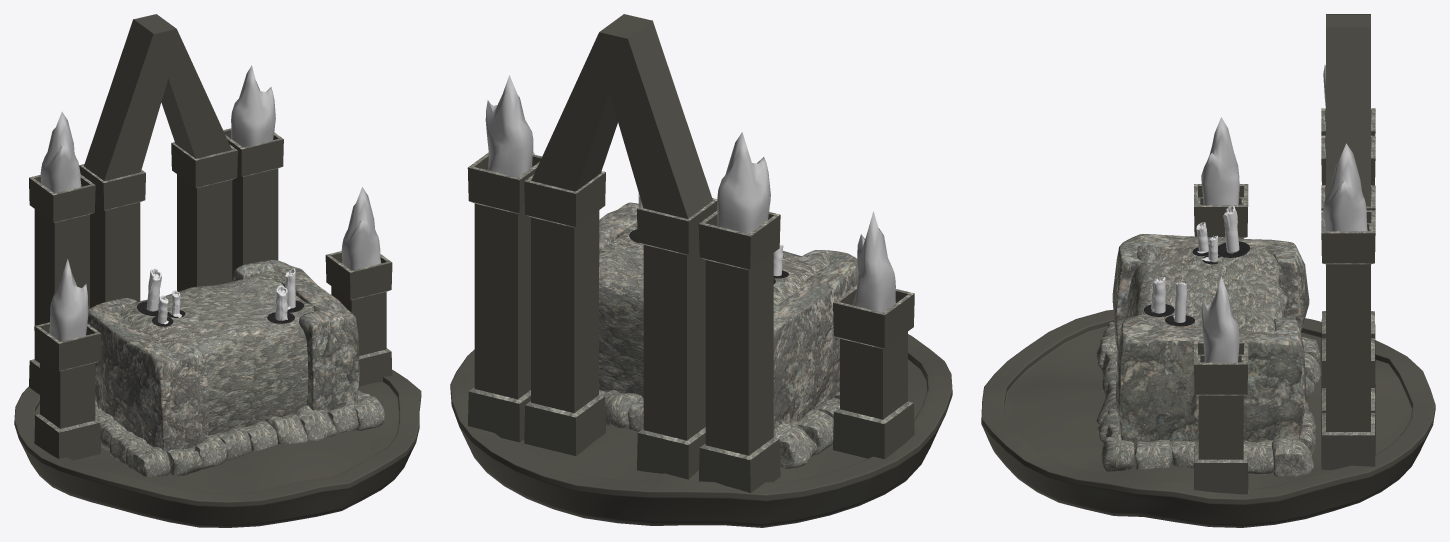
Rendered from Shrine.fbx.
The picture shows the model from 3 angles, left to right: view 1: azimuth 30°, elevation 25°; view 2: azimuth 150°, elevation 25°; view 3: azimuth 270°, elevation 25°; orthographic projection. The views are drawn at different scales.
Visible parts, largest first — view 1: pCylinder3, pCube18, pCube19, pCube23, pCube26, pCube21, pCube20, pCube27, pCube24, pCube28, pCube25, pCube22 (+16 smaller); view 2: pCylinder3, pCube23, pCube27, pCube24, pCube28, pCube26, pCube21, pCube19, pCube18, pCube25, pCube32, pCube31 (+5 smaller); view 3: pCylinder3, pCube20, pCube28, pCube18, pCube25, pCube22, pCube19, pCube31, pCube29, pCube30, pCube21, pCube16 (+8 smaller).
Boxes of the visible parts, box(x1,y1,x2,y2) form: pCylinder3: box(14, 369, 421, 527); pCube18: box(120, 270, 314, 435); pCube19: box(87, 298, 209, 451); pCube23: box(171, 142, 237, 291); pCube26: box(84, 19, 168, 180); pCube21: box(34, 322, 100, 460); pCube20: box(232, 260, 359, 413); pCube27: box(29, 174, 95, 394); pCube24: box(79, 164, 145, 308); pCube28: box(223, 128, 283, 281); pCube25: box(134, 14, 231, 158); pCube22: box(325, 251, 392, 386); pCylinder3: box(450, 334, 952, 527); pCube23: box(524, 171, 605, 455); pCube27: box(698, 210, 780, 492); pCube24: box(637, 198, 717, 479); pCube28: box(467, 152, 542, 442); pCube26: box(603, 20, 712, 218); pCube21: box(833, 285, 914, 459); pCube19: box(773, 250, 857, 431); pCube18: box(599, 223, 831, 398); pCube25: box(531, 14, 651, 191); pCube32: box(717, 132, 770, 233); pCube31: box(485, 75, 533, 177); pCylinder3: box(981, 310, 1435, 527); pCube20: box(1115, 314, 1306, 457); pCube28: box(1321, 210, 1375, 469); pCube18: box(1127, 244, 1287, 332); pCube25: box(1326, 14, 1370, 206); pCube22: box(1194, 341, 1248, 494); pCube19: box(1112, 234, 1309, 351); pCube31: box(1323, 143, 1367, 231); pCube29: box(1201, 117, 1239, 205); pCube30: box(1201, 276, 1239, 363); pCube21: box(1194, 184, 1248, 238); pCube16: box(1271, 437, 1314, 476).
Size of the model in its own units: 49.38 by 50.61 by 49.57.
Materials: 7 (2 with a texture image).
